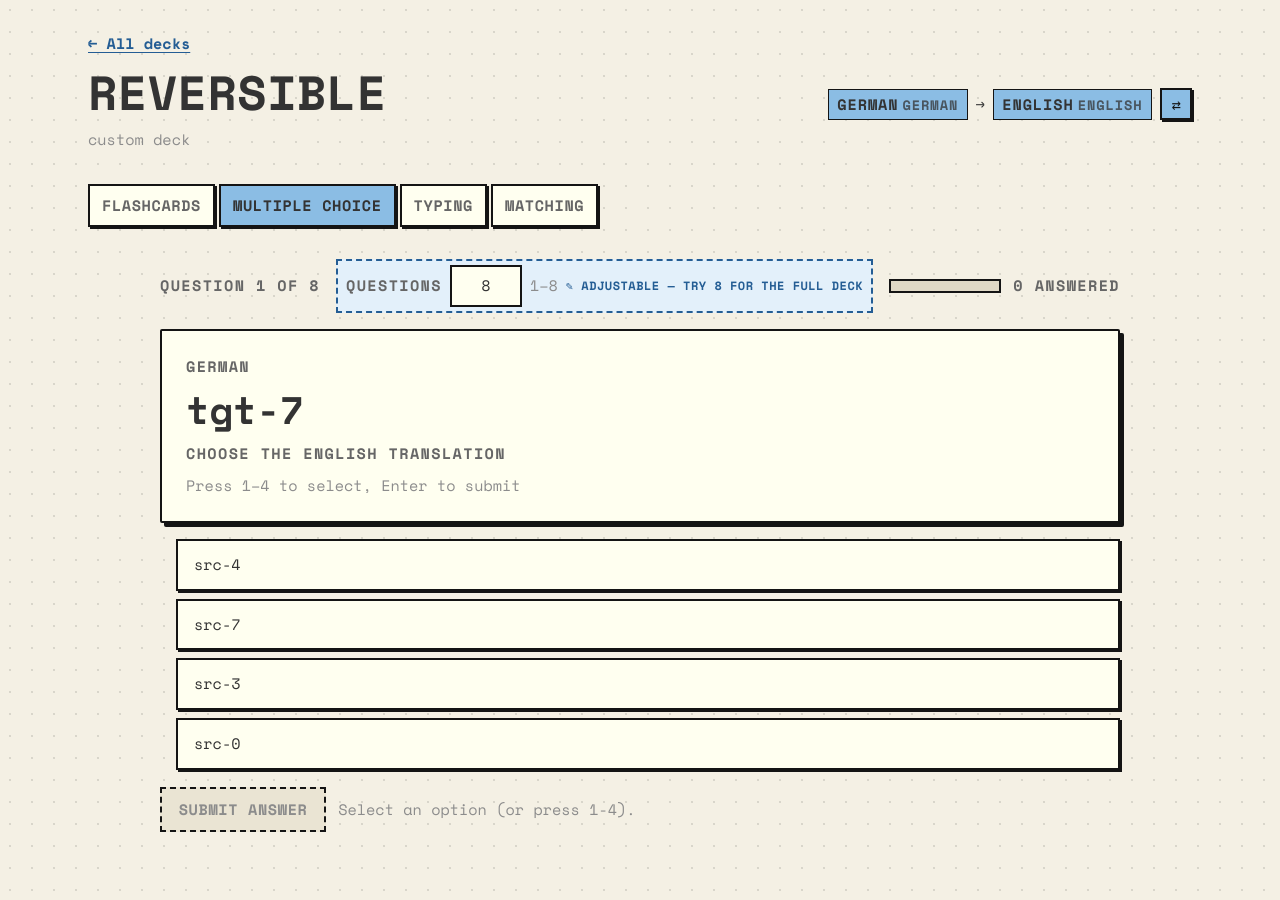
PlayPage with reversed study direction › quiz keeps the same question after submitting an answer
What coordinates should you click on to do the following:
click the button "src-7"
I would click on:
 (217, 624)
Its box is [176,599,1120,650].
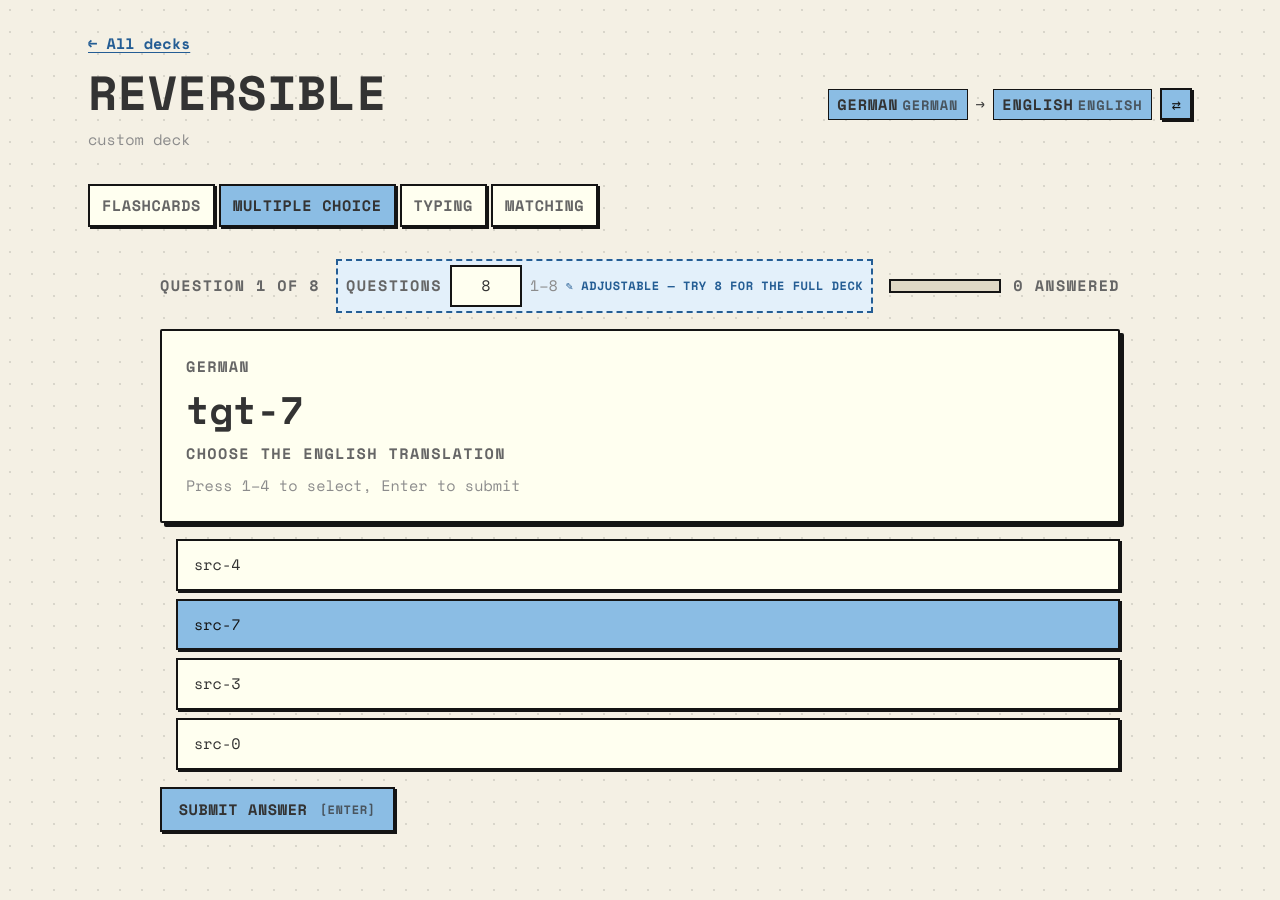
What coordinates should you click on to do the following:
click the button "Submit answer [Enter]"
I would click on:
 (277, 810)
Its box is [160,788,394,832].
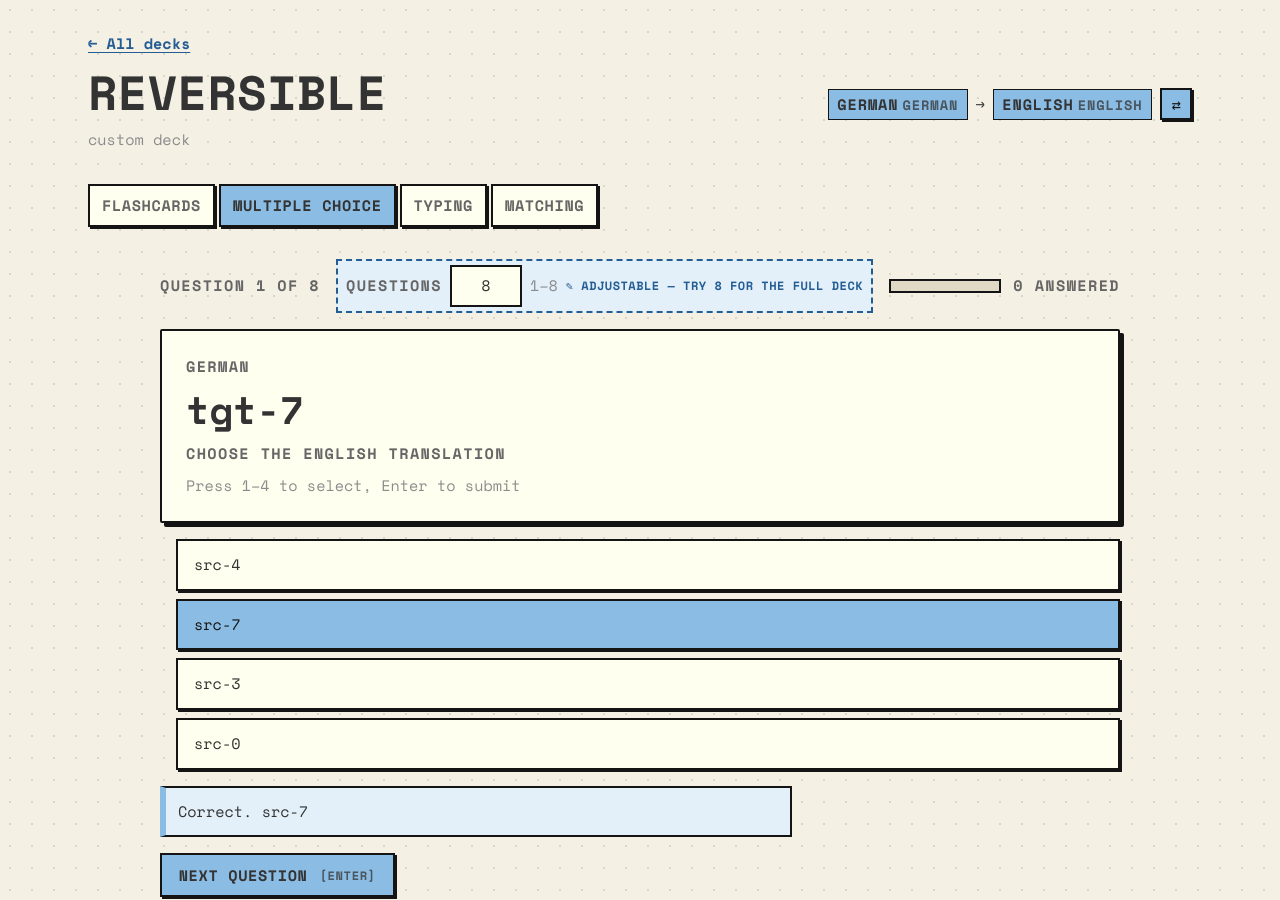
Expected: the text "Correct. src-7" is shown, [160,786,792,837]
